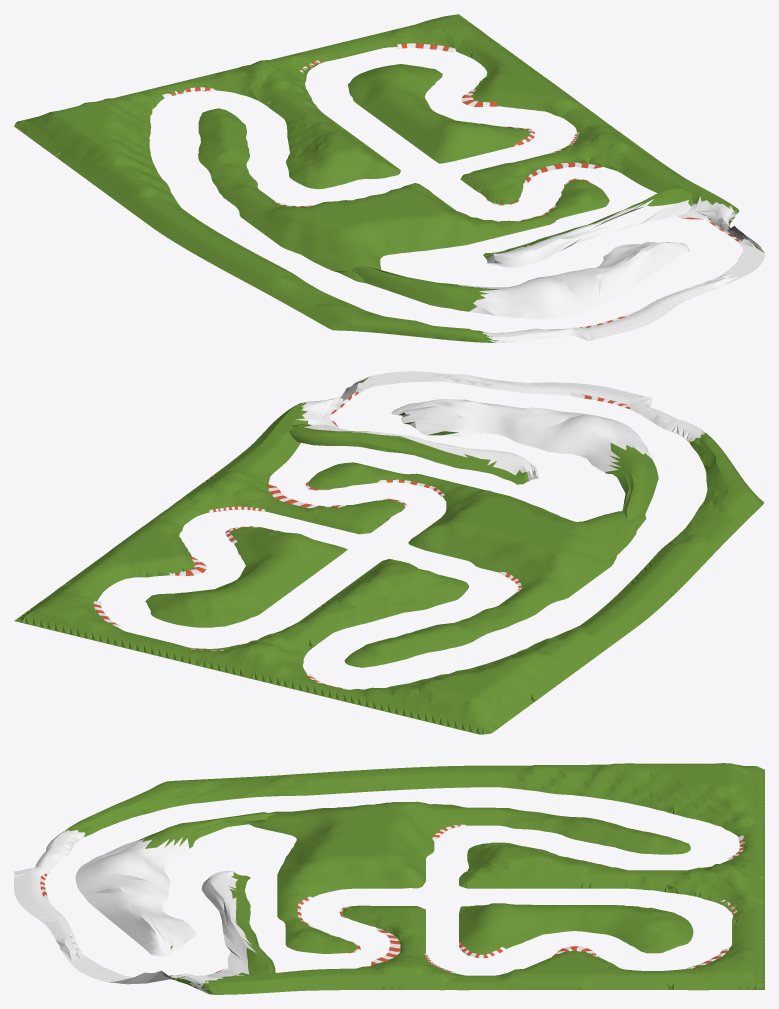
Rendered from track11.glb.
3 renders of one model, top to bottom at view 1: azimuth 30°, elevation 25°; view 2: azimuth 150°, elevation 25°; view 3: azimuth 270°, elevation 25°, orthographic. The views are drawn at different scales.
Visible parts, largest first — view 1: tarrain.001; view 2: tarrain.001; view 3: tarrain.001.
Part boxes in pixels (left/top/right/bottom): tarrain.001: left=14, top=14, right=764, bottom=342; tarrain.001: left=14, top=371, right=764, bottom=734; tarrain.001: left=14, top=763, right=764, bottom=994.
Size of the model in its own units: 358 by 12.74 by 497.
Materials: 1 (1 with a texture image).
